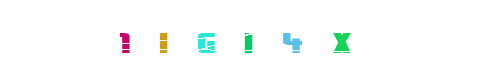1: (85, 0, 165, 80)
4: (244, 0, 324, 80)
G: (166, 0, 246, 80)
I: (123, 0, 203, 80), (210, 0, 290, 80)
X: (269, 0, 349, 80)
